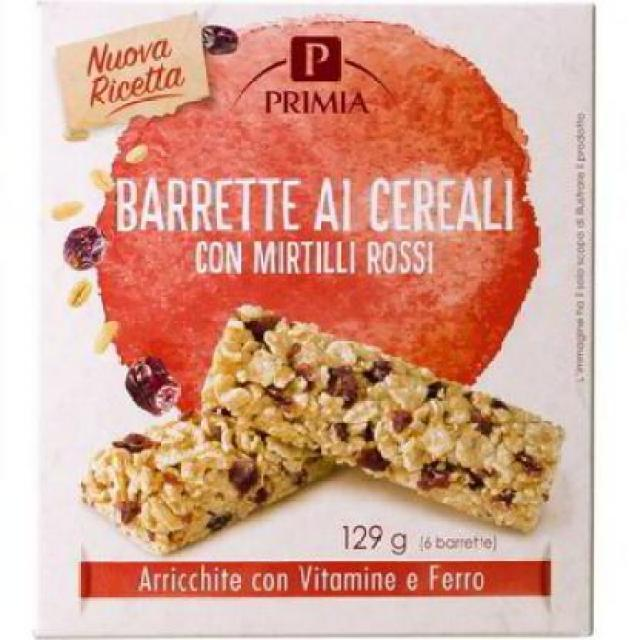Cereal bar: (27, 7, 601, 638)
